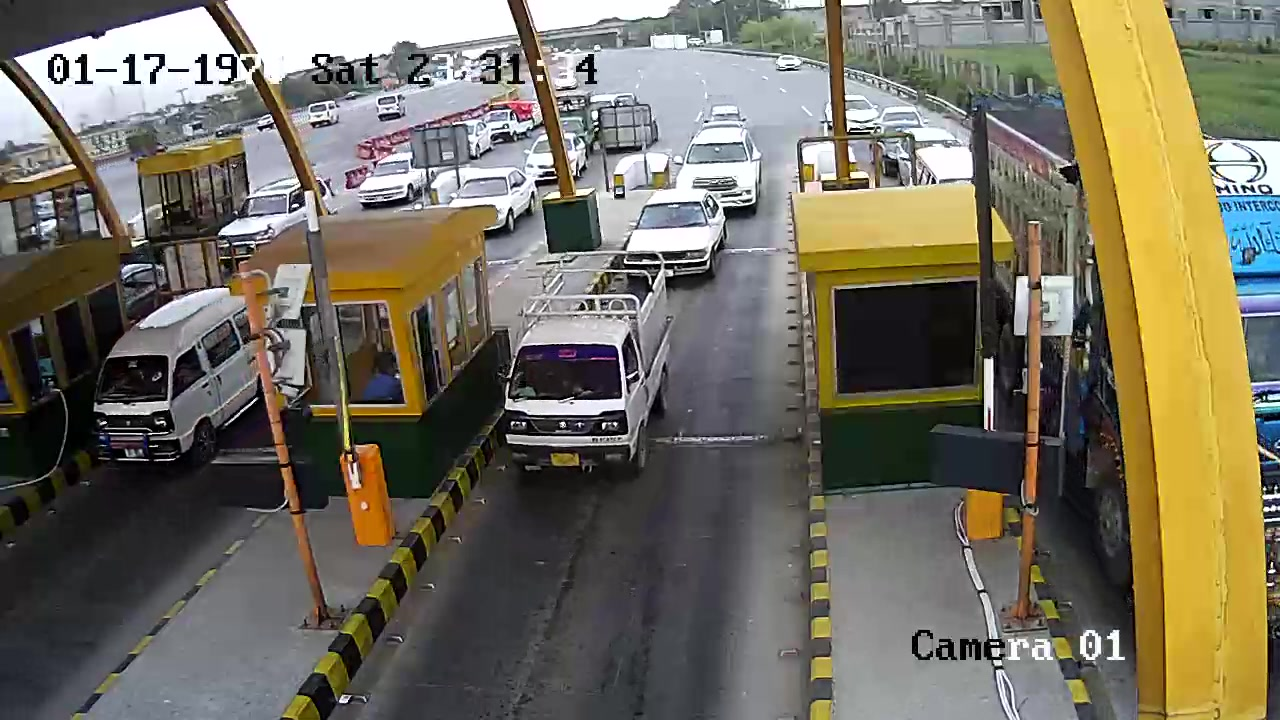F1: (486, 252, 677, 492)
